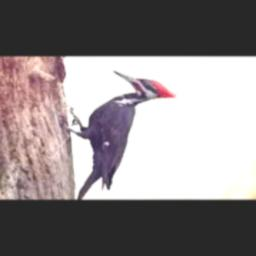Woodpecker: (66, 70, 177, 200)
